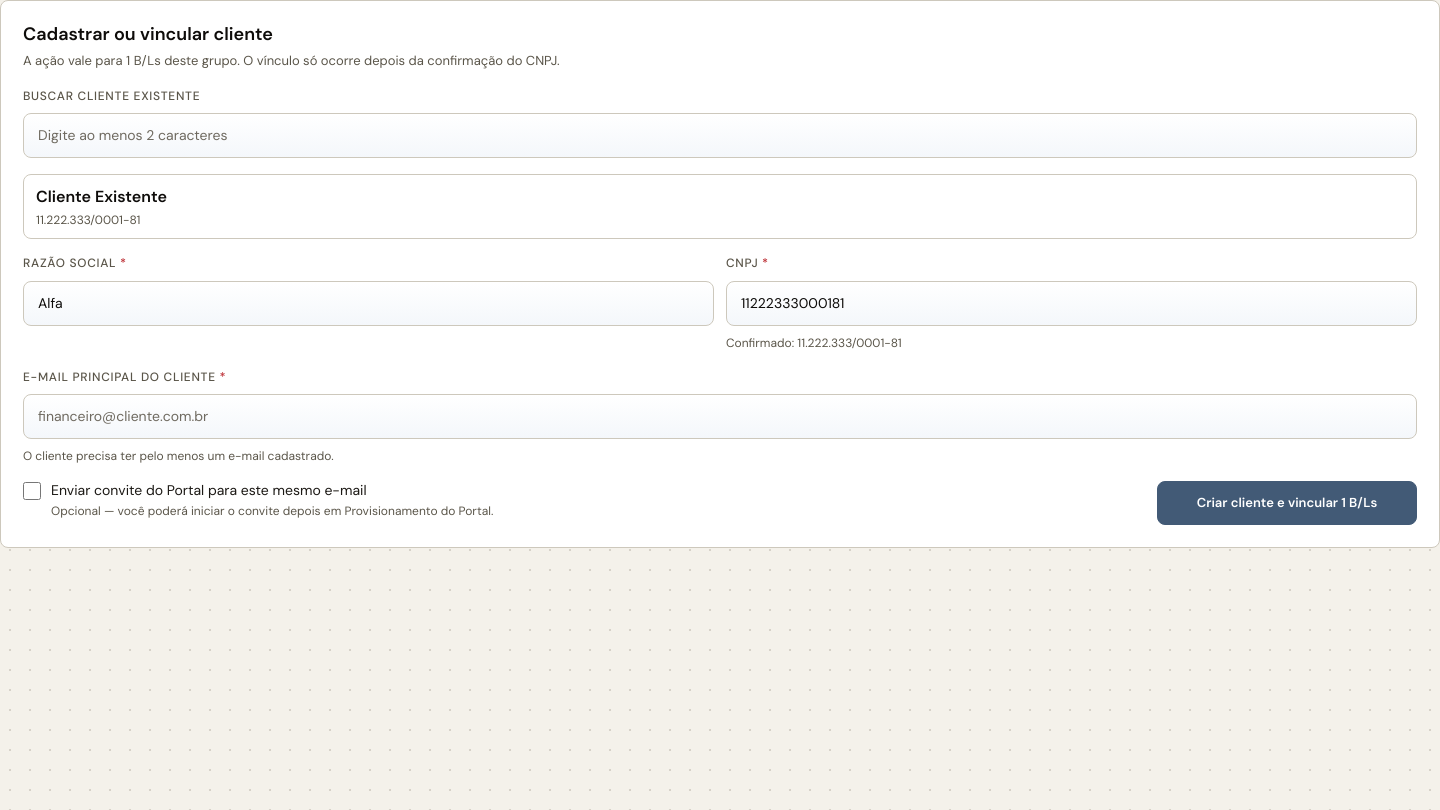
Test: ReviewCustomerOnboarding › preenche o e-mail conhecido ao selecionar um cliente existente
This screenshot has width=1440, height=810.
Click the button "Cliente Existente 11.222.333/0001-81". click: point(101, 196)
box: top-left (23, 174), bottom-right (1417, 239)
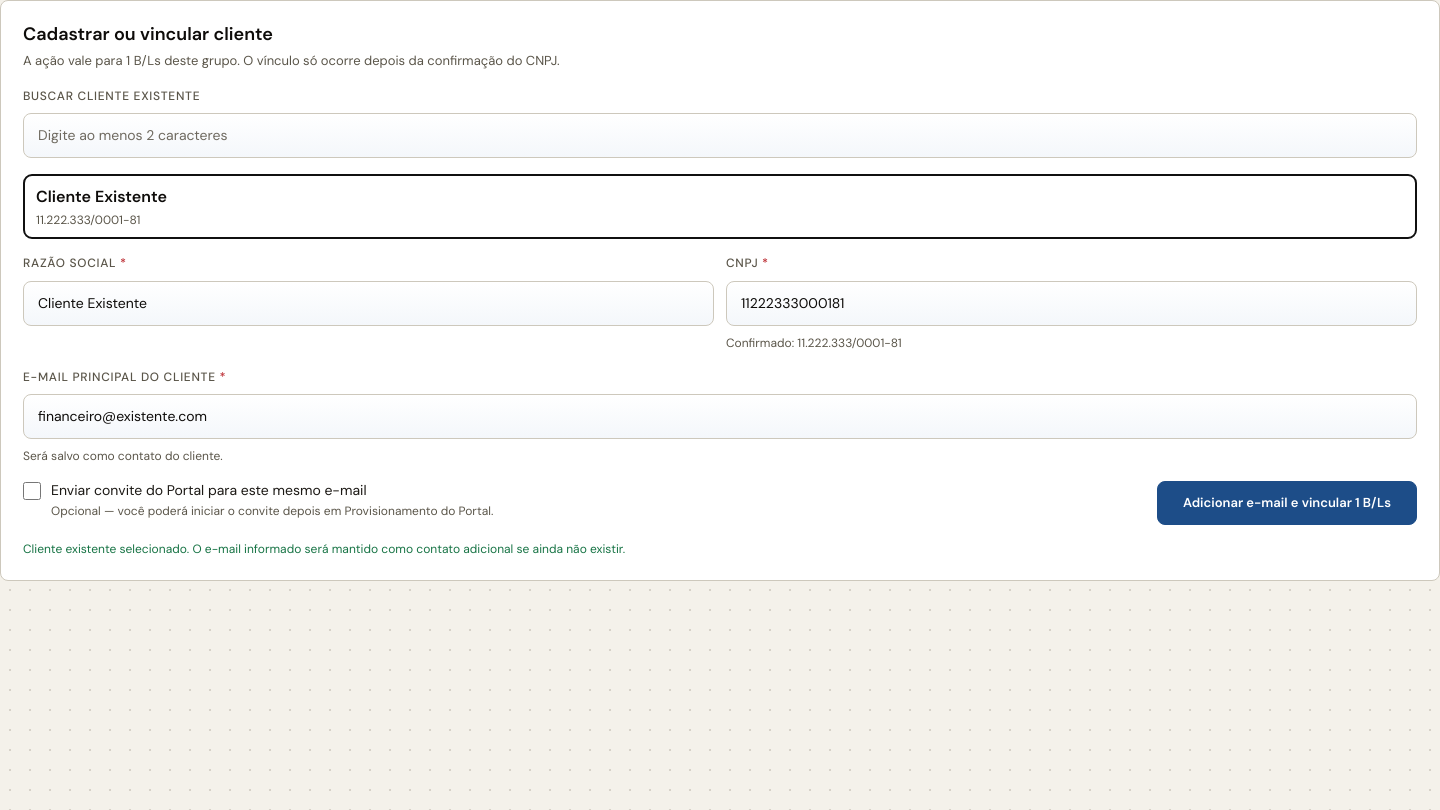
Check: the field with placeholder "financeiro@cliente.com.br" holds "financeiro@existente.com", box top-left (23, 394), bottom-right (1417, 439)
